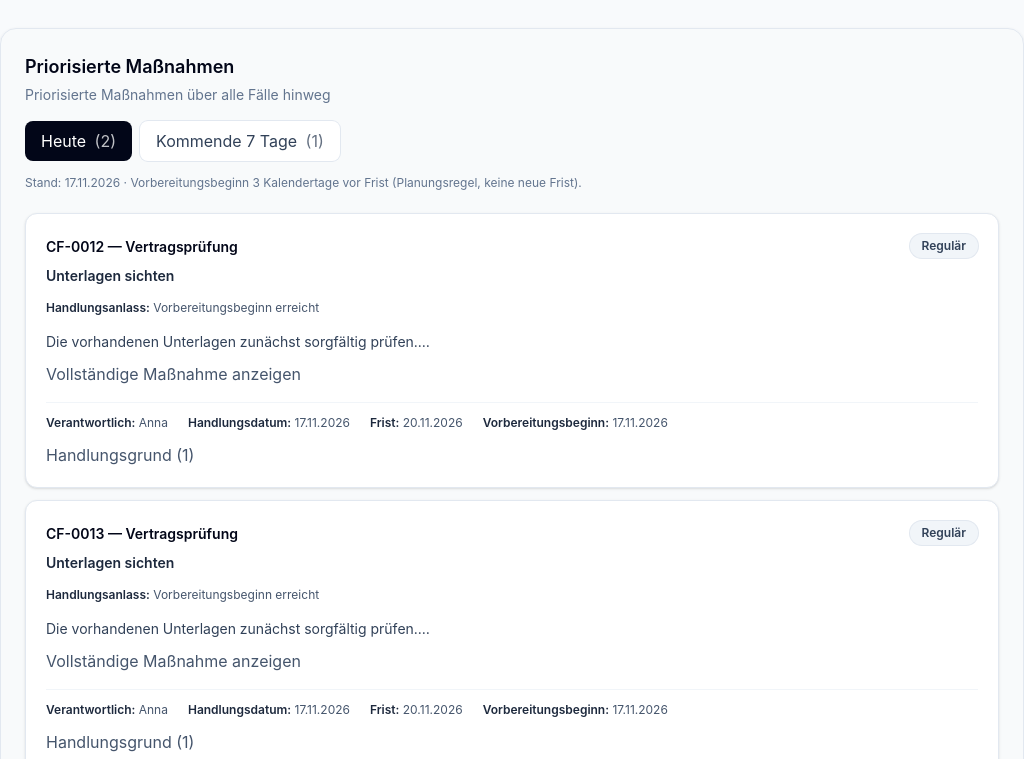
Scenario: dashboard worklist › shows a sentence preview and independently expands measures and Handlungsgrund per card
Later steps or results of the test are not shown.
Click the button "Vollständige Maßnahme anzeigen" below "CF-0012": click(174, 374) [46, 362, 301, 386]
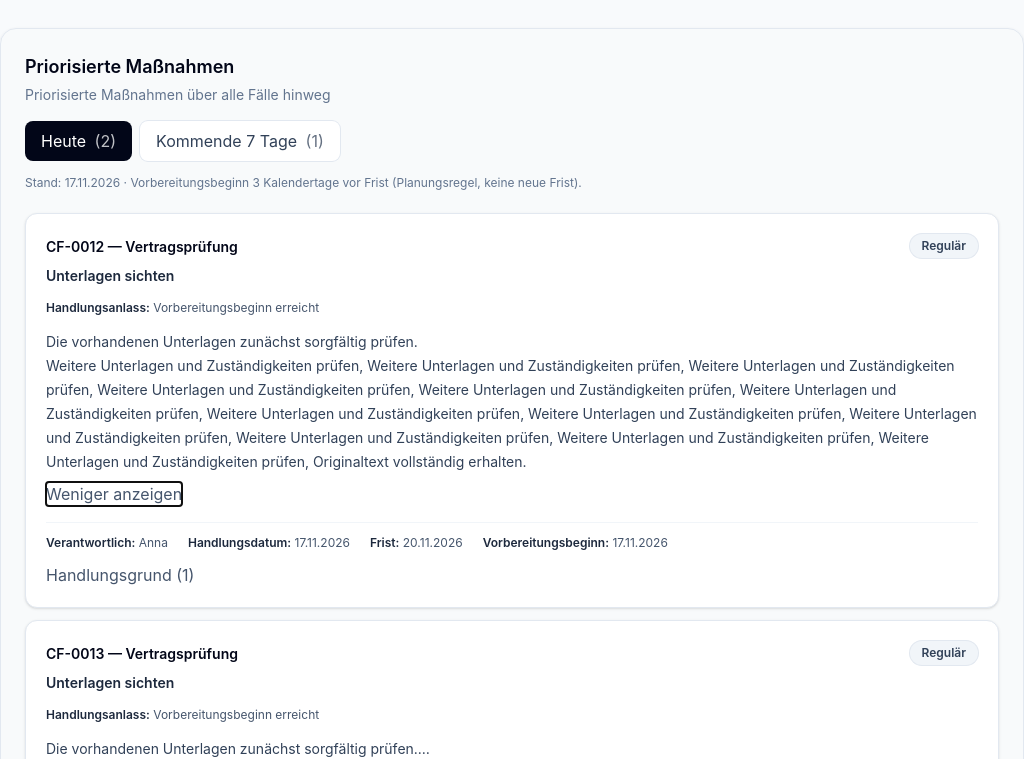
expect the button "Weniger anzeigen" is expanded: met, box [46, 482, 182, 506]
Click the button "Handlungsgrund (1)": click(120, 575) [46, 563, 194, 587]
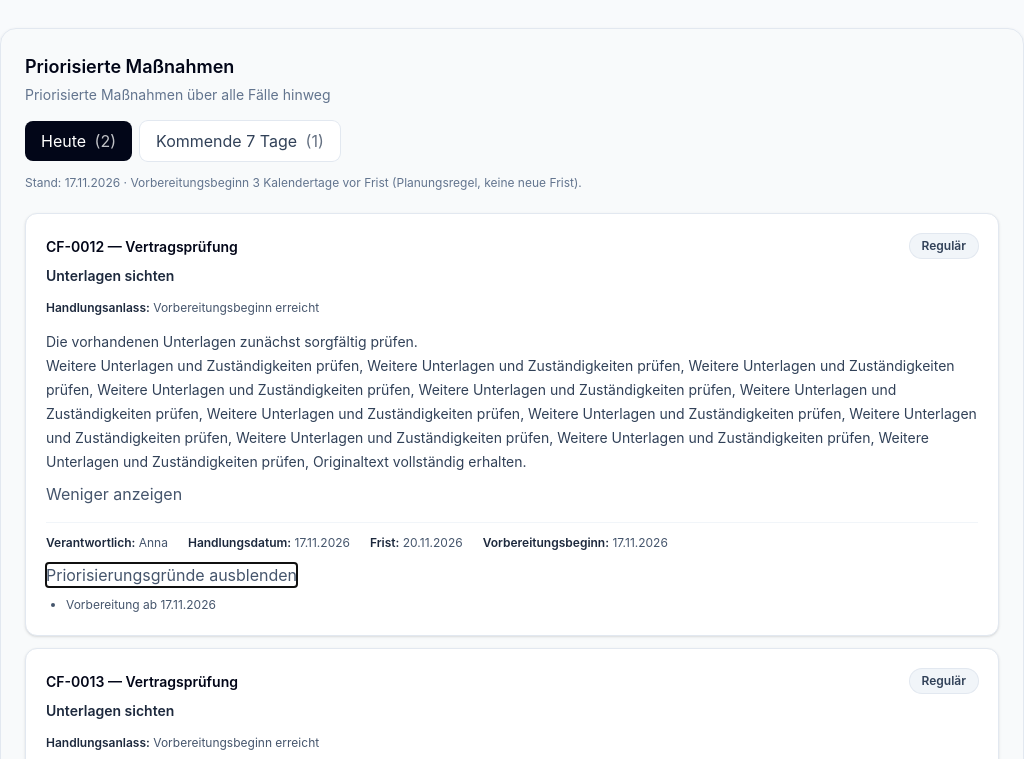
expect the button named "Handlungsgrund" is expanded: met, box [46, 563, 297, 587]
Click the button "Weniger anzeigen": click(114, 494) [46, 482, 182, 506]
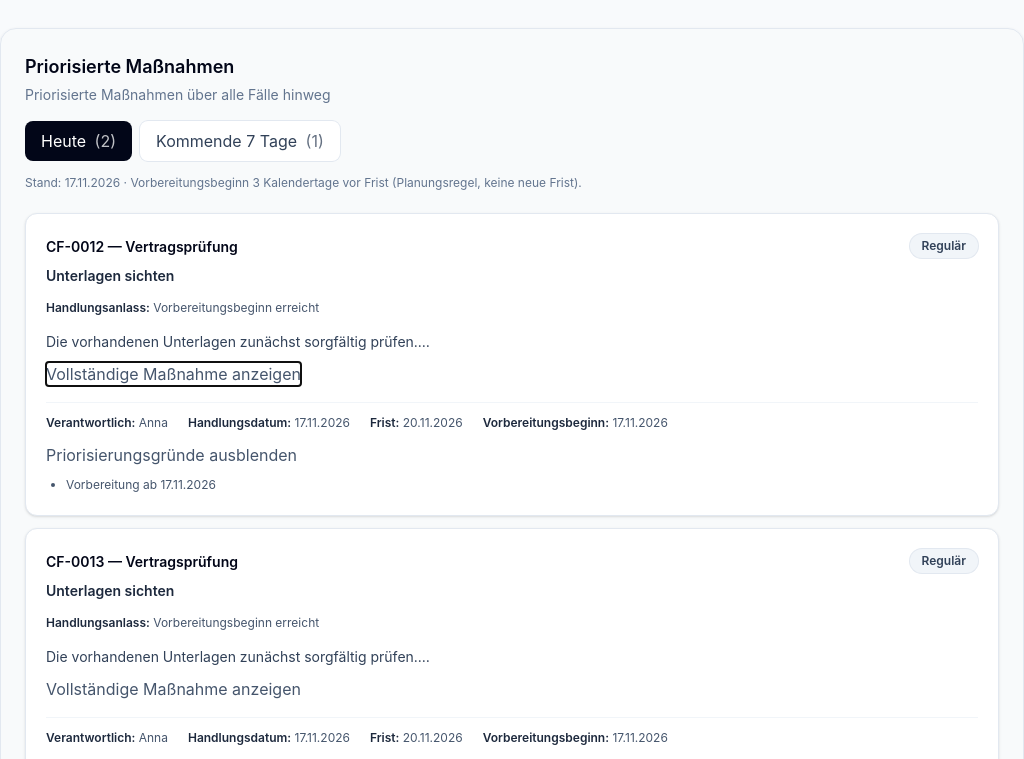
expect the button "Priorisierungsgründe ausblenden" is expanded: met, box [46, 443, 297, 467]
